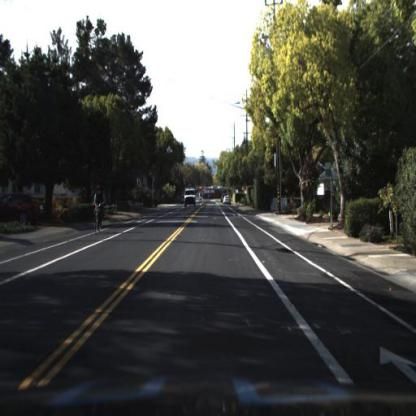biker: (91, 184, 106, 243)
car: (1, 191, 49, 230), (181, 188, 199, 209), (222, 194, 233, 207)
